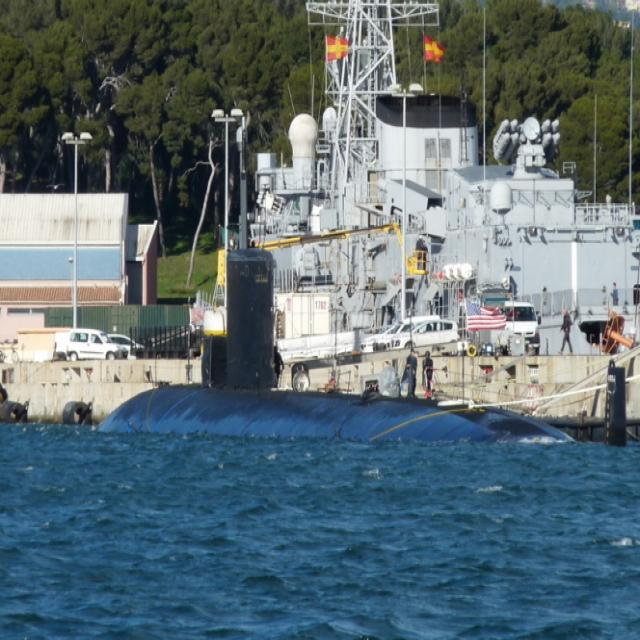submarine: (106, 136, 580, 444)
